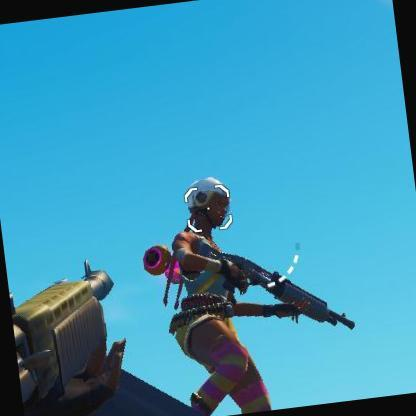person: (160, 174, 281, 416)
